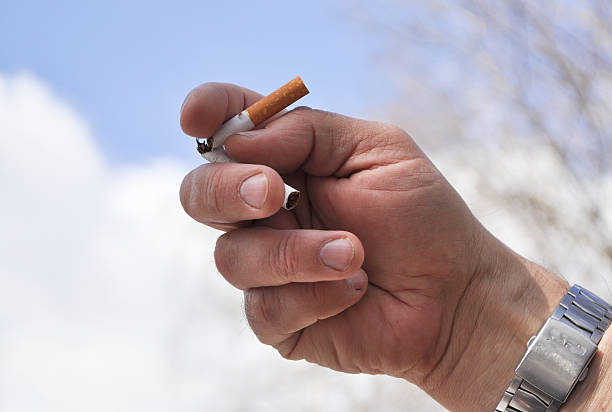cigarette: (194, 75, 311, 152), (193, 137, 242, 163), (280, 181, 302, 212)
